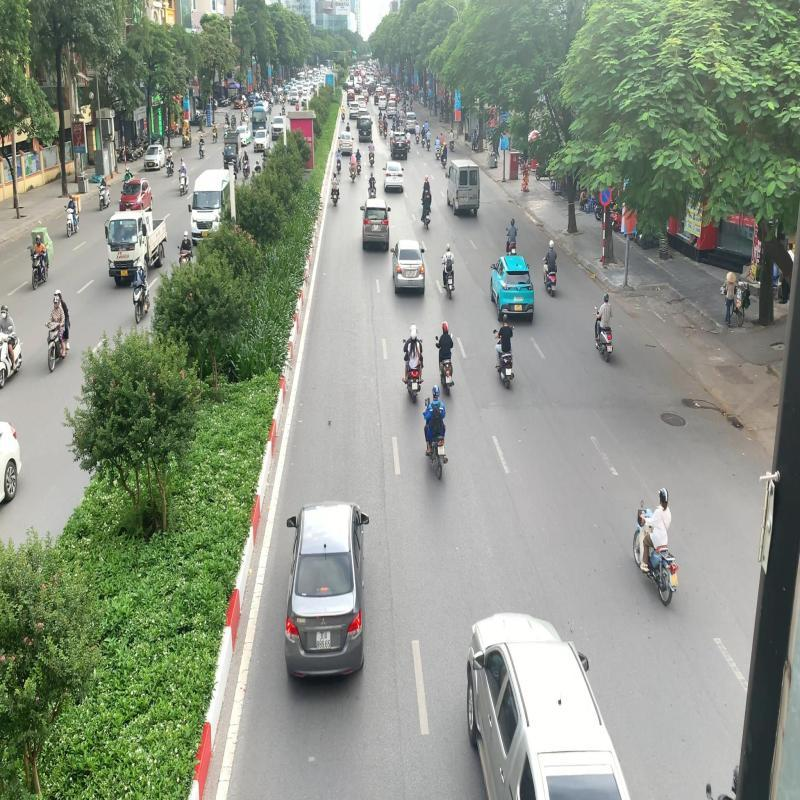helmet: (658, 487, 669, 507), (432, 384, 440, 400), (442, 320, 449, 334), (411, 328, 417, 340), (503, 314, 508, 326)
licenseplate: (438, 445, 444, 456), (412, 382, 418, 390), (446, 375, 452, 383), (506, 368, 512, 376)
motorcyclist: (632, 484, 678, 606), (423, 385, 450, 480), (402, 322, 424, 403), (434, 320, 455, 398), (493, 314, 514, 389)
